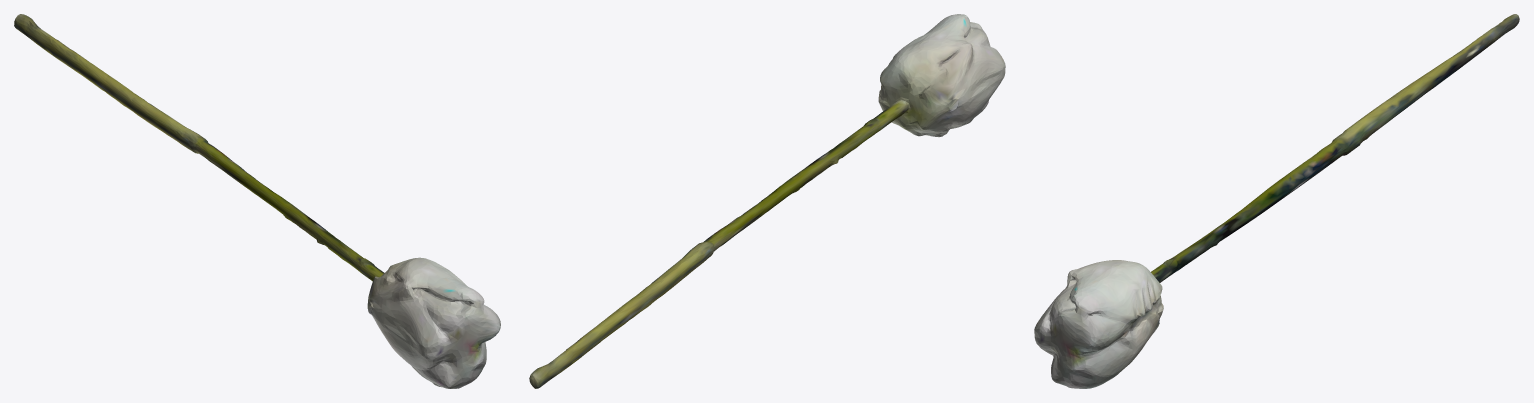
File: scan.obj
The picture shows the model from 3 angles, left to right: view 1: azimuth 30°, elevation 25°; view 2: azimuth 150°, elevation 25°; view 3: azimuth 330°, elevation 25°; orthographic projection.
Parts seen in each view (by area): view 1: scan.ply; view 2: scan.ply; view 3: scan.ply.
Part boxes in pixels (<box>): scan.ply: <box>14,14,500,388</box>; scan.ply: <box>529,14,1005,388</box>; scan.ply: <box>1034,14,1519,388</box>.
Bounding box in the file's own units: 0.038 × 0.0438 × 0.3614.
